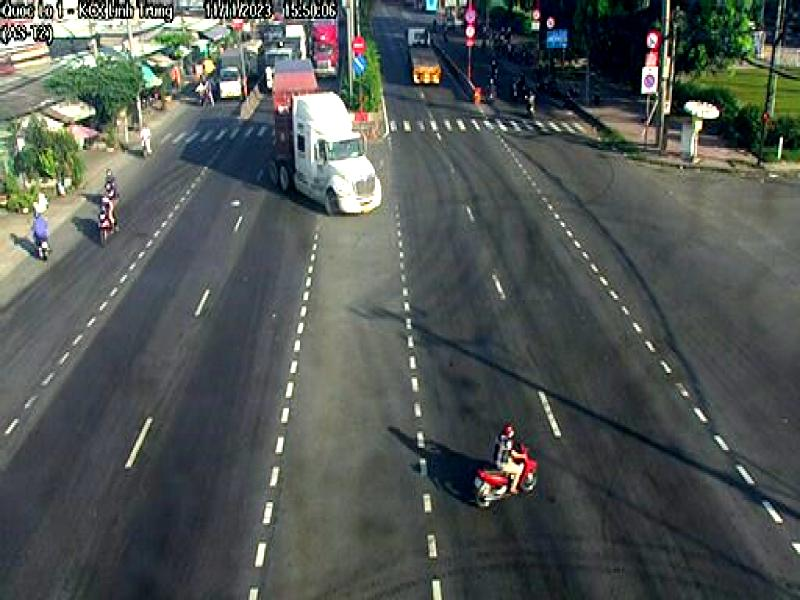truck: (267, 54, 385, 216)
